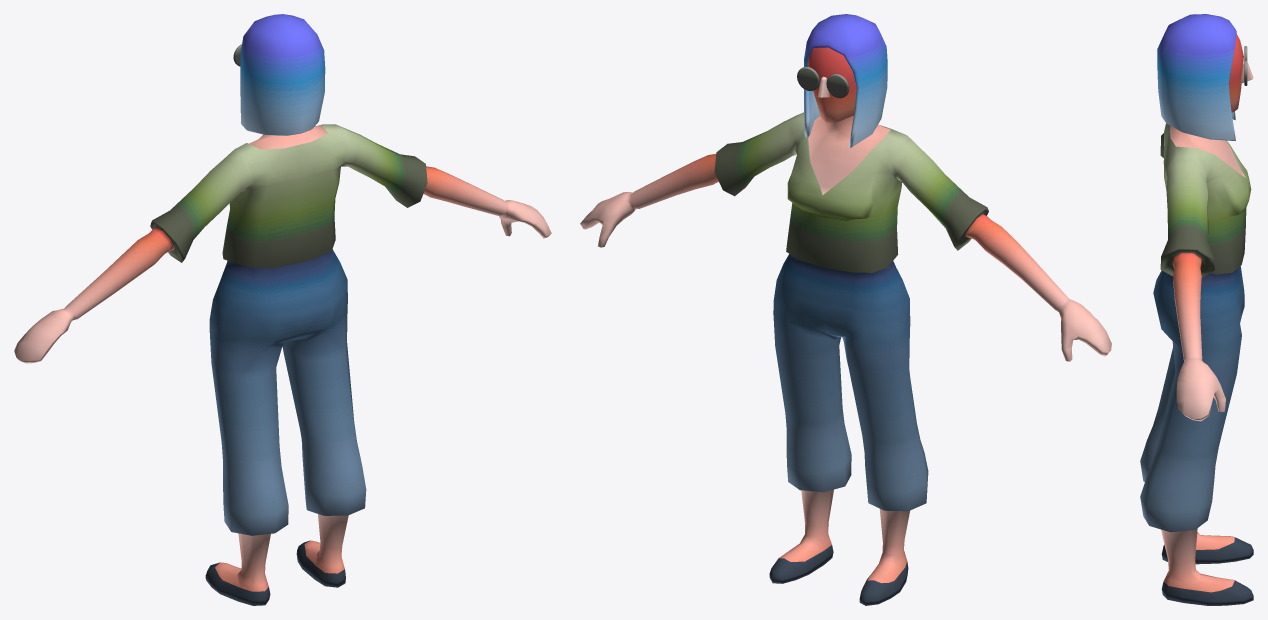
Rendered from mesh_char_53.fbx.
3 views of the same model, side by side, from view 1: azimuth 30°, elevation 25°; view 2: azimuth 150°, elevation 25°; view 3: azimuth 270°, elevation 25° (orthographic).
Visible parts, largest first — view 1: char53x; view 2: char53x; view 3: char53x.
Boxes of the visible parts, <box> form: char53x: <box>14,14,551,605</box>; char53x: <box>580,14,1111,605</box>; char53x: <box>1140,14,1253,605</box>.
Bounding box in the file's own units: 9.17 × 9.27 × 1.7.
